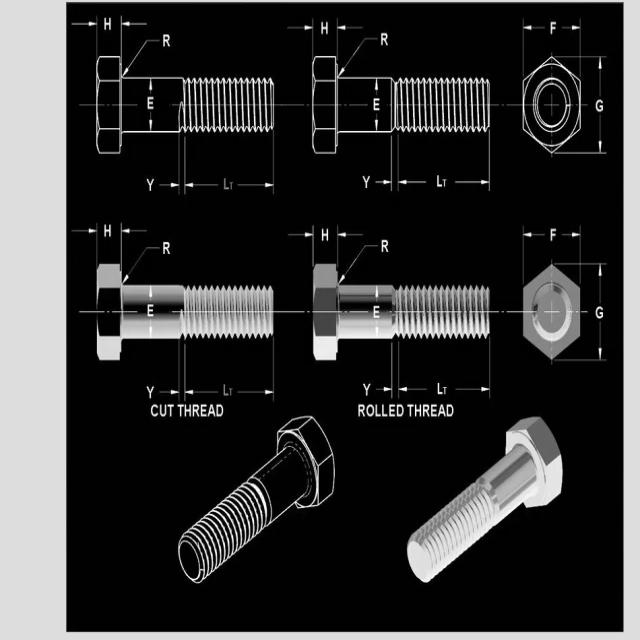marking_line: (122, 240, 180, 284), (124, 32, 171, 79), (338, 242, 390, 283), (340, 37, 380, 76), (238, 385, 273, 398), (147, 81, 156, 131), (597, 265, 607, 305), (336, 21, 363, 35), (236, 179, 273, 189), (596, 113, 606, 150), (452, 384, 488, 394), (595, 320, 604, 360), (185, 388, 217, 399), (69, 18, 97, 30), (453, 178, 490, 187), (123, 226, 151, 237), (185, 182, 219, 191), (122, 18, 149, 29), (397, 178, 426, 188), (289, 22, 312, 34), (158, 180, 179, 193), (337, 229, 367, 238), (561, 228, 580, 242), (597, 57, 603, 99), (398, 385, 428, 393), (527, 228, 547, 240), (287, 230, 311, 239), (145, 317, 155, 338), (523, 24, 546, 33), (560, 24, 580, 34), (158, 387, 179, 396), (374, 383, 390, 394), (374, 179, 392, 188), (374, 110, 381, 132), (72, 228, 96, 234), (147, 286, 155, 302), (373, 79, 381, 91)
